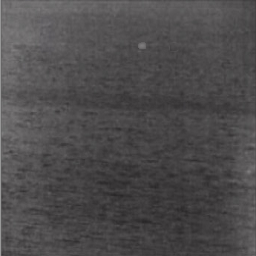Target: (136, 40, 147, 49)
